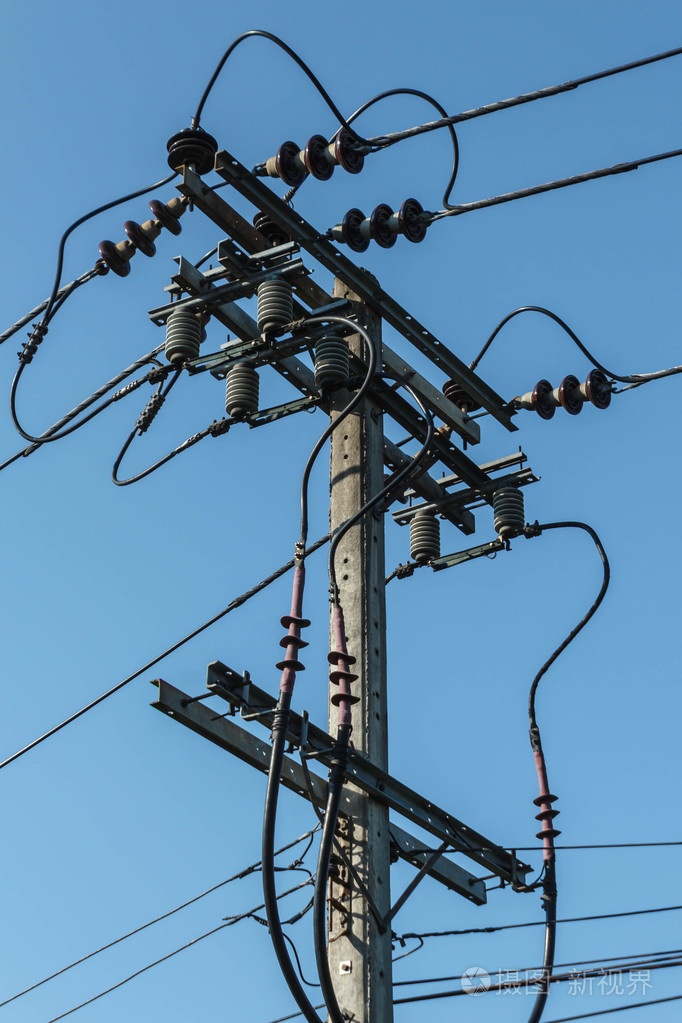insulator: (98, 196, 185, 280), (274, 124, 366, 184), (340, 200, 433, 253), (528, 369, 612, 419)
